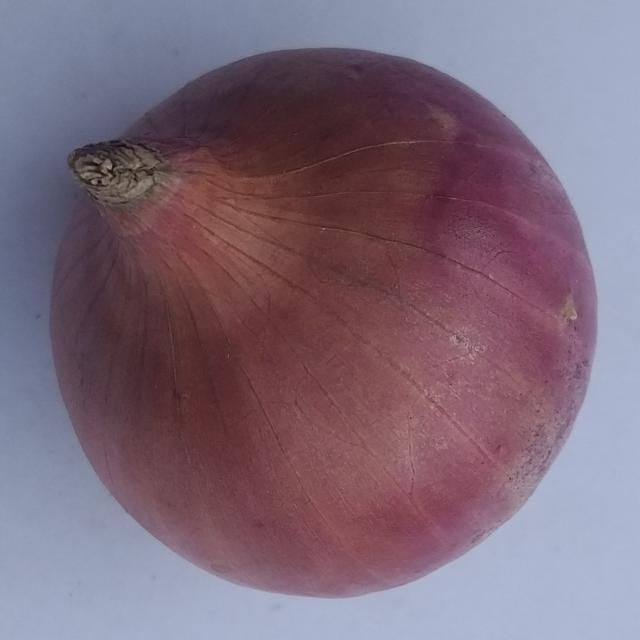onion: (48, 48, 599, 599)
